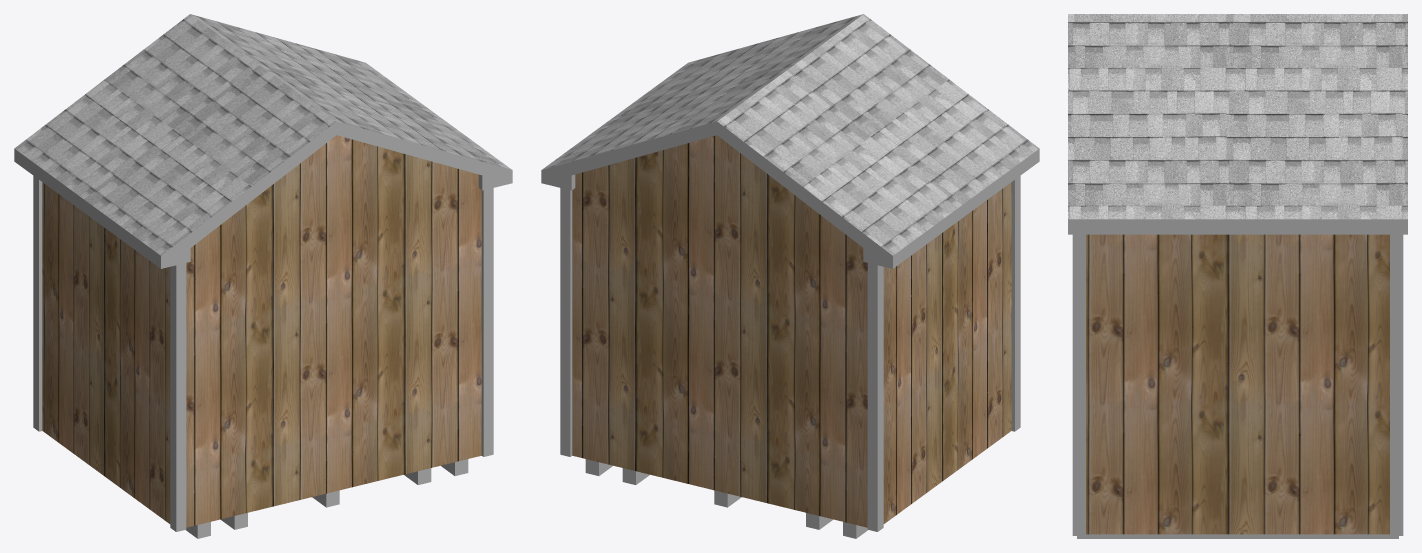
File: A-frame_6x8.obj
The picture shows the model from 3 angles, left to right: view 1: azimuth 30°, elevation 25°; view 2: azimuth 150°, elevation 25°; view 3: azimuth 270°, elevation 25°; orthographic projection. The views are drawn at different scales.
Visible parts, largest first — view 1: Shed, Roof, Trim, Sides, Floor; view 2: Shed, Roof, Trim, Sides, Floor; view 3: Shed, Roof, Trim, Sides, Floor.
Part boxes in pixels (left/top/right/bottom): Shed: left=42, top=135, right=481, bottom=527; Roof: left=14, top=14, right=511, bottom=255; Trim: left=33, top=176, right=493, bottom=531; Sides: left=14, top=121, right=512, bottom=268; Floor: left=186, top=459, right=468, bottom=538; Shed: left=572, top=135, right=1011, bottom=527; Roof: left=542, top=14, right=1039, bottom=255; Trim: left=560, top=176, right=1020, bottom=531; Sides: left=541, top=121, right=1039, bottom=268; Floor: left=585, top=459, right=867, bottom=538; Shed: left=1086, top=234, right=1389, bottom=534; Roof: left=1068, top=14, right=1407, bottom=219; Trim: left=1072, top=234, right=1403, bottom=535; Sides: left=1068, top=219, right=1407, bottom=234; Floor: left=1077, top=534, right=1398, bottom=538.
Bounding box in the file's own units: 2.67 × 2.81 × 1.93.
